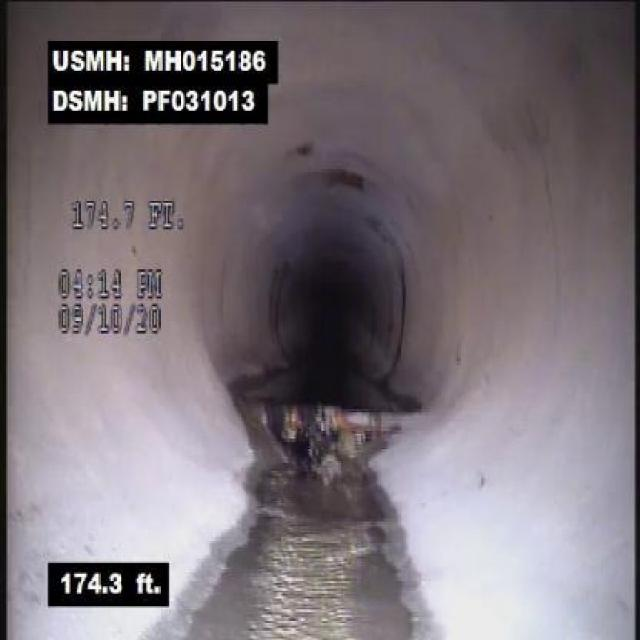Crack: (522, 94, 580, 372)
Utility intrusion: (220, 386, 455, 451)
